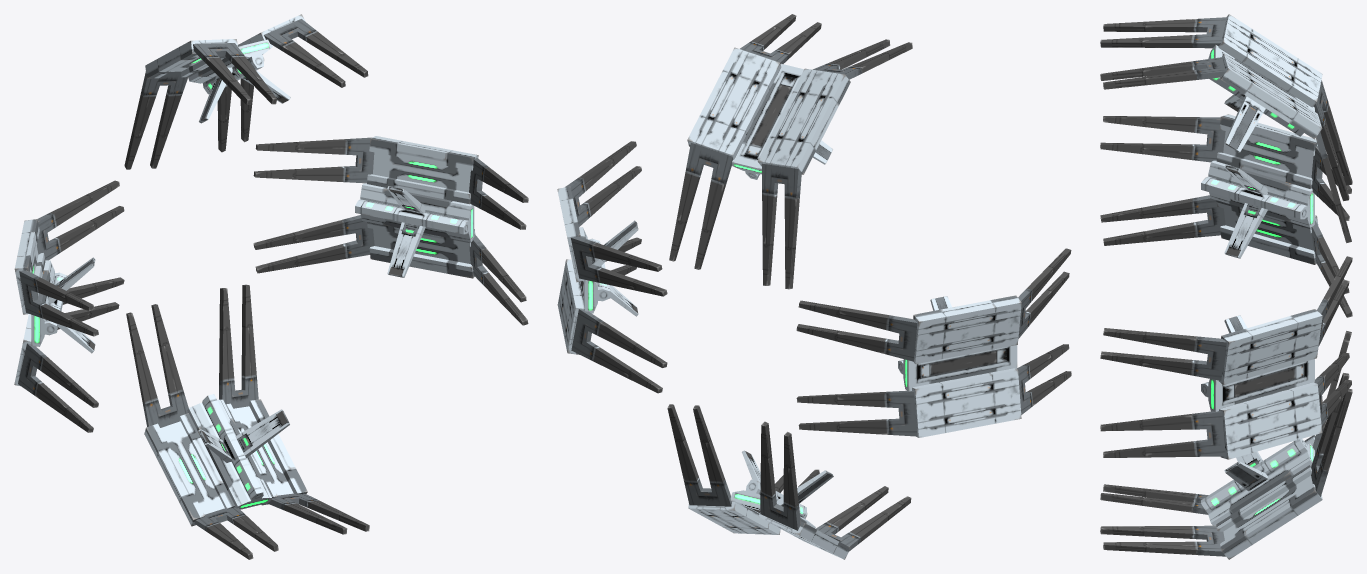
File: WarpGate31_sm.gltf
The picture shows the model from 3 angles, left to right: view 1: azimuth 30°, elevation 25°; view 2: azimuth 150°, elevation 25°; view 3: azimuth 270°, elevation 25°; orthographic projection.
Visible parts, largest first — view 1: WarpGate31; view 2: WarpGate31; view 3: WarpGate31.
Part boxes in pixels (bbox=[...]): WarpGate31: bbox=[14, 14, 528, 559]; WarpGate31: bbox=[557, 14, 1071, 559]; WarpGate31: bbox=[1100, 14, 1352, 559].
Size of the model in its own units: 107 by 107 by 49.69.
1 material, 1 textured.
